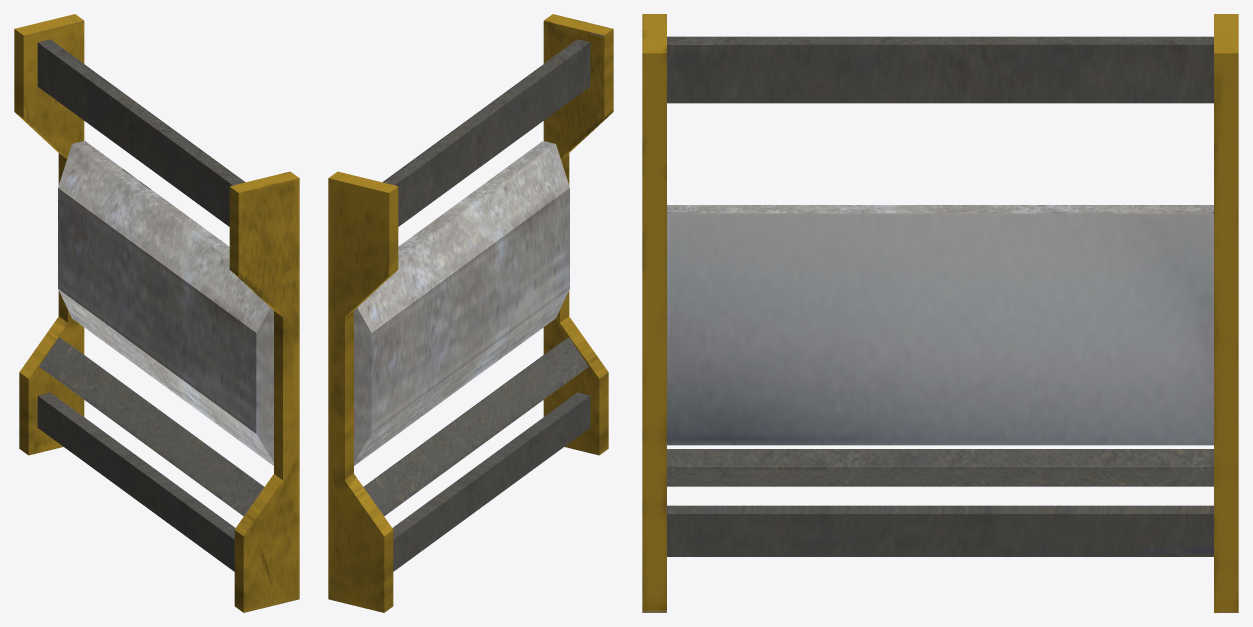
File: valla.obj
The picture shows the model from 3 angles, left to right: view 1: azimuth 30°, elevation 25°; view 2: azimuth 150°, elevation 25°; view 3: azimuth 270°, elevation 25°; orthographic projection. The views are drawn at different scales.
Parts seen in each view (by area): view 1: valla; view 2: valla; view 3: valla.
Boxes of the visible parts, x1,y1,x2,y2 form: valla: (14, 14, 299, 612); valla: (328, 14, 613, 612); valla: (642, 14, 1238, 612).
Bounding box in the file's own units: 0.4897 × 3.21 × 3.1.
